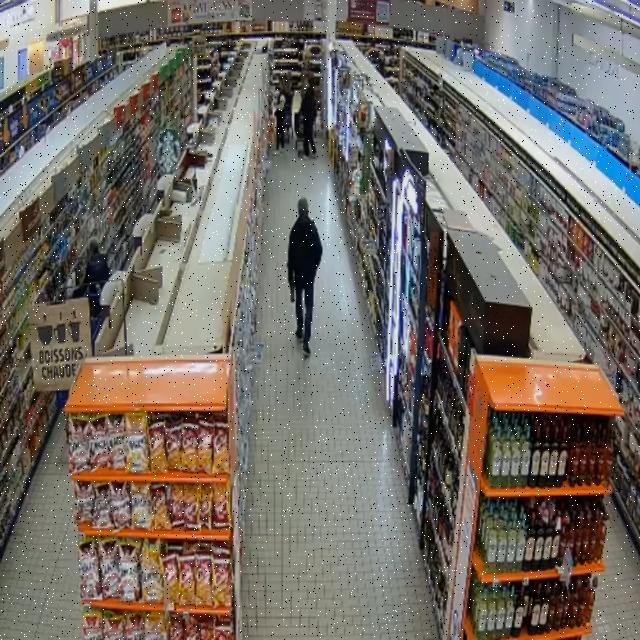article: (290, 286, 294, 304)
person: (288, 198, 322, 357), (301, 82, 316, 158), (275, 94, 286, 154)
